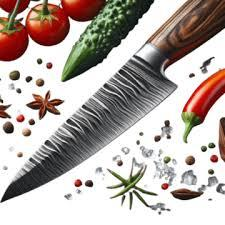Knife: (0, 0, 224, 203)
